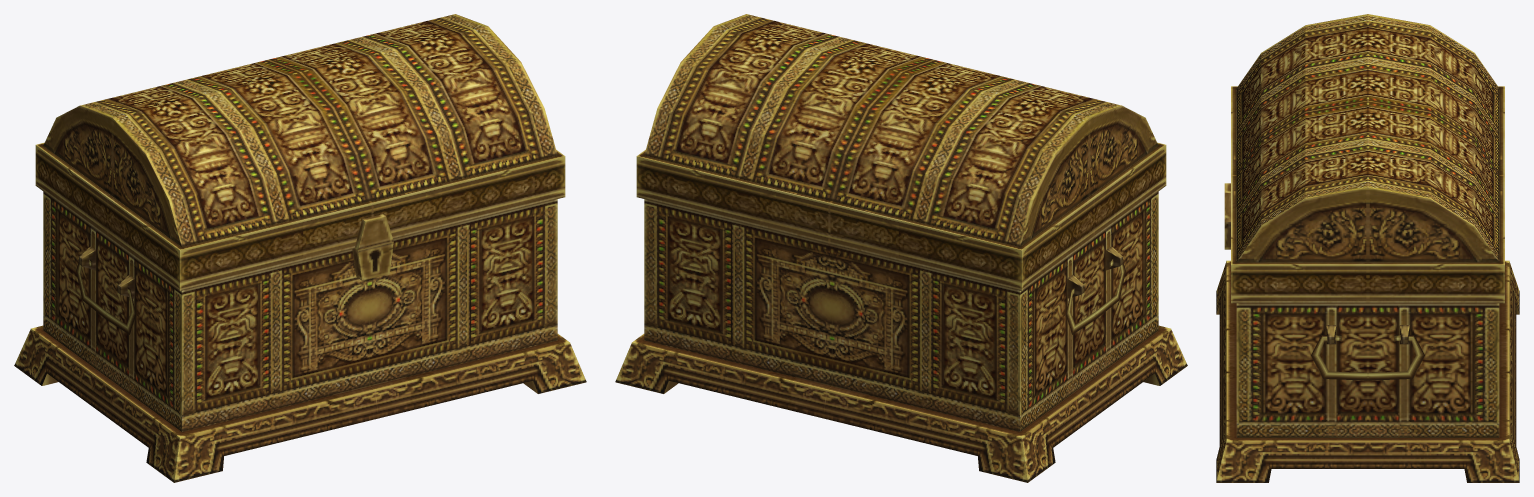
File: BaoXiang01.FBX
3 views of the same model, side by side, from view 1: azimuth 30°, elevation 25°; view 2: azimuth 150°, elevation 25°; view 3: azimuth 270°, elevation 25° (orthographic). The views are drawn at different scales.
Parts seen in each view (by area): view 1: Chest01_b; view 2: Chest01_b; view 3: Chest01_b.
Part boxes in pixels (<box>): Chest01_b: <box>14,14,586,482</box>; Chest01_b: <box>615,14,1187,482</box>; Chest01_b: <box>1216,14,1519,482</box>.
Bounding box in the file's own units: 0.9901 × 0.6923 × 0.6649.
